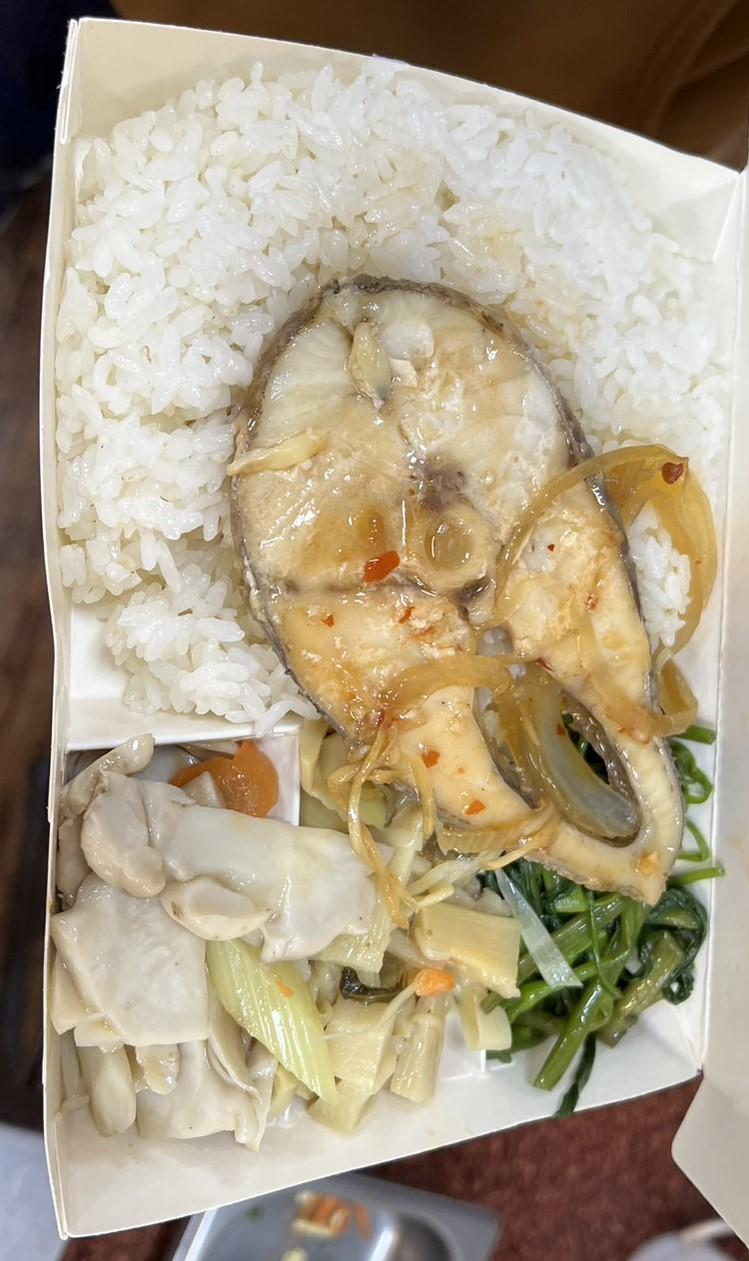big grilled chicken leg: (18, 3, 749, 1261)
big herbal chicken leg: (47, 58, 720, 712)
braised fish fillet: (40, 748, 400, 1154), (310, 743, 514, 1138), (508, 744, 720, 1086)
braised pork ribs: (218, 270, 690, 912)
